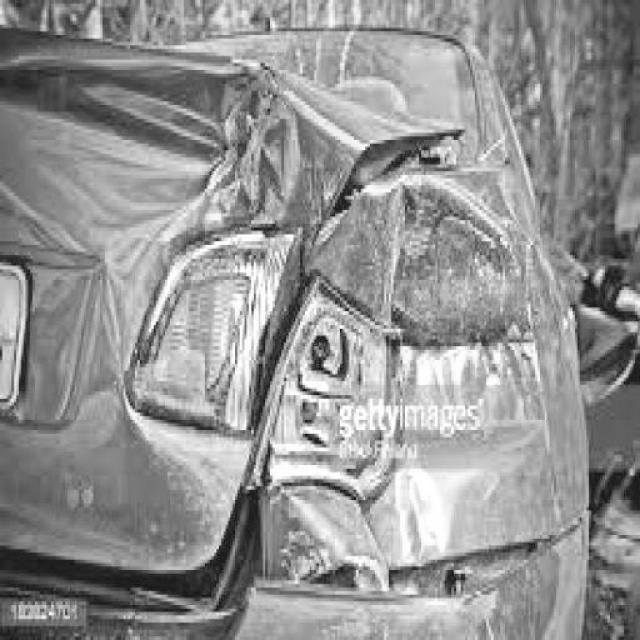car damage: (4, 33, 584, 626)
